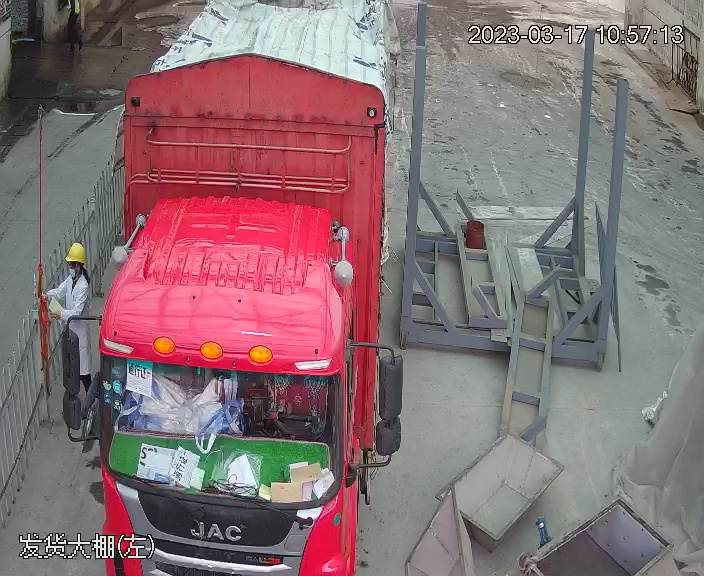head: (60, 241, 91, 311)
helmet: (64, 242, 88, 262)
people: (46, 244, 94, 395)
truck: (57, 12, 410, 576)
